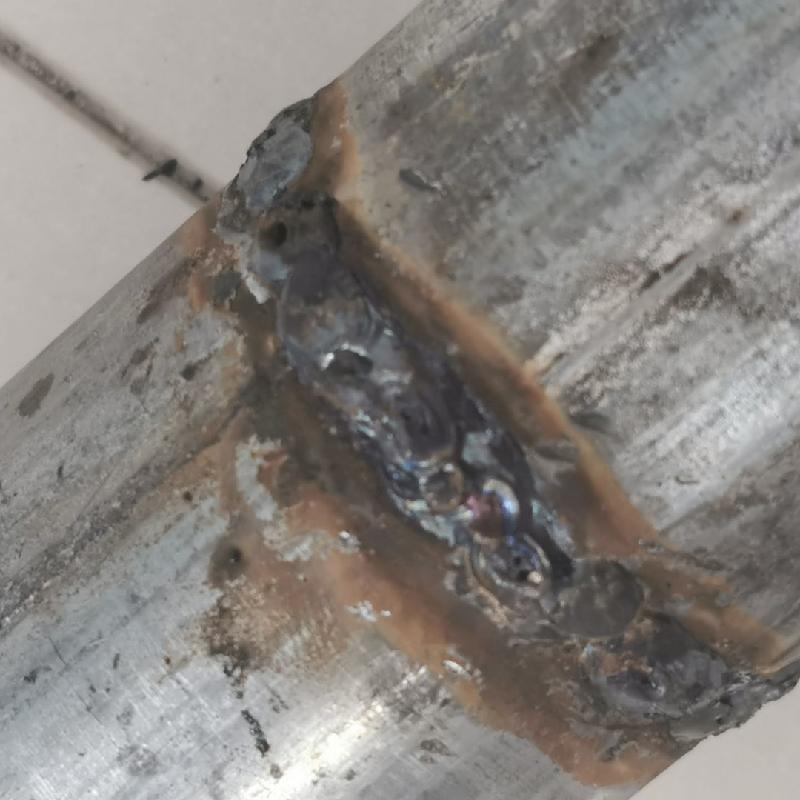Surface_pores: (258, 199, 333, 252), (489, 542, 540, 585)
crater: (362, 405, 753, 738)
wrong_size: (228, 110, 388, 402)
